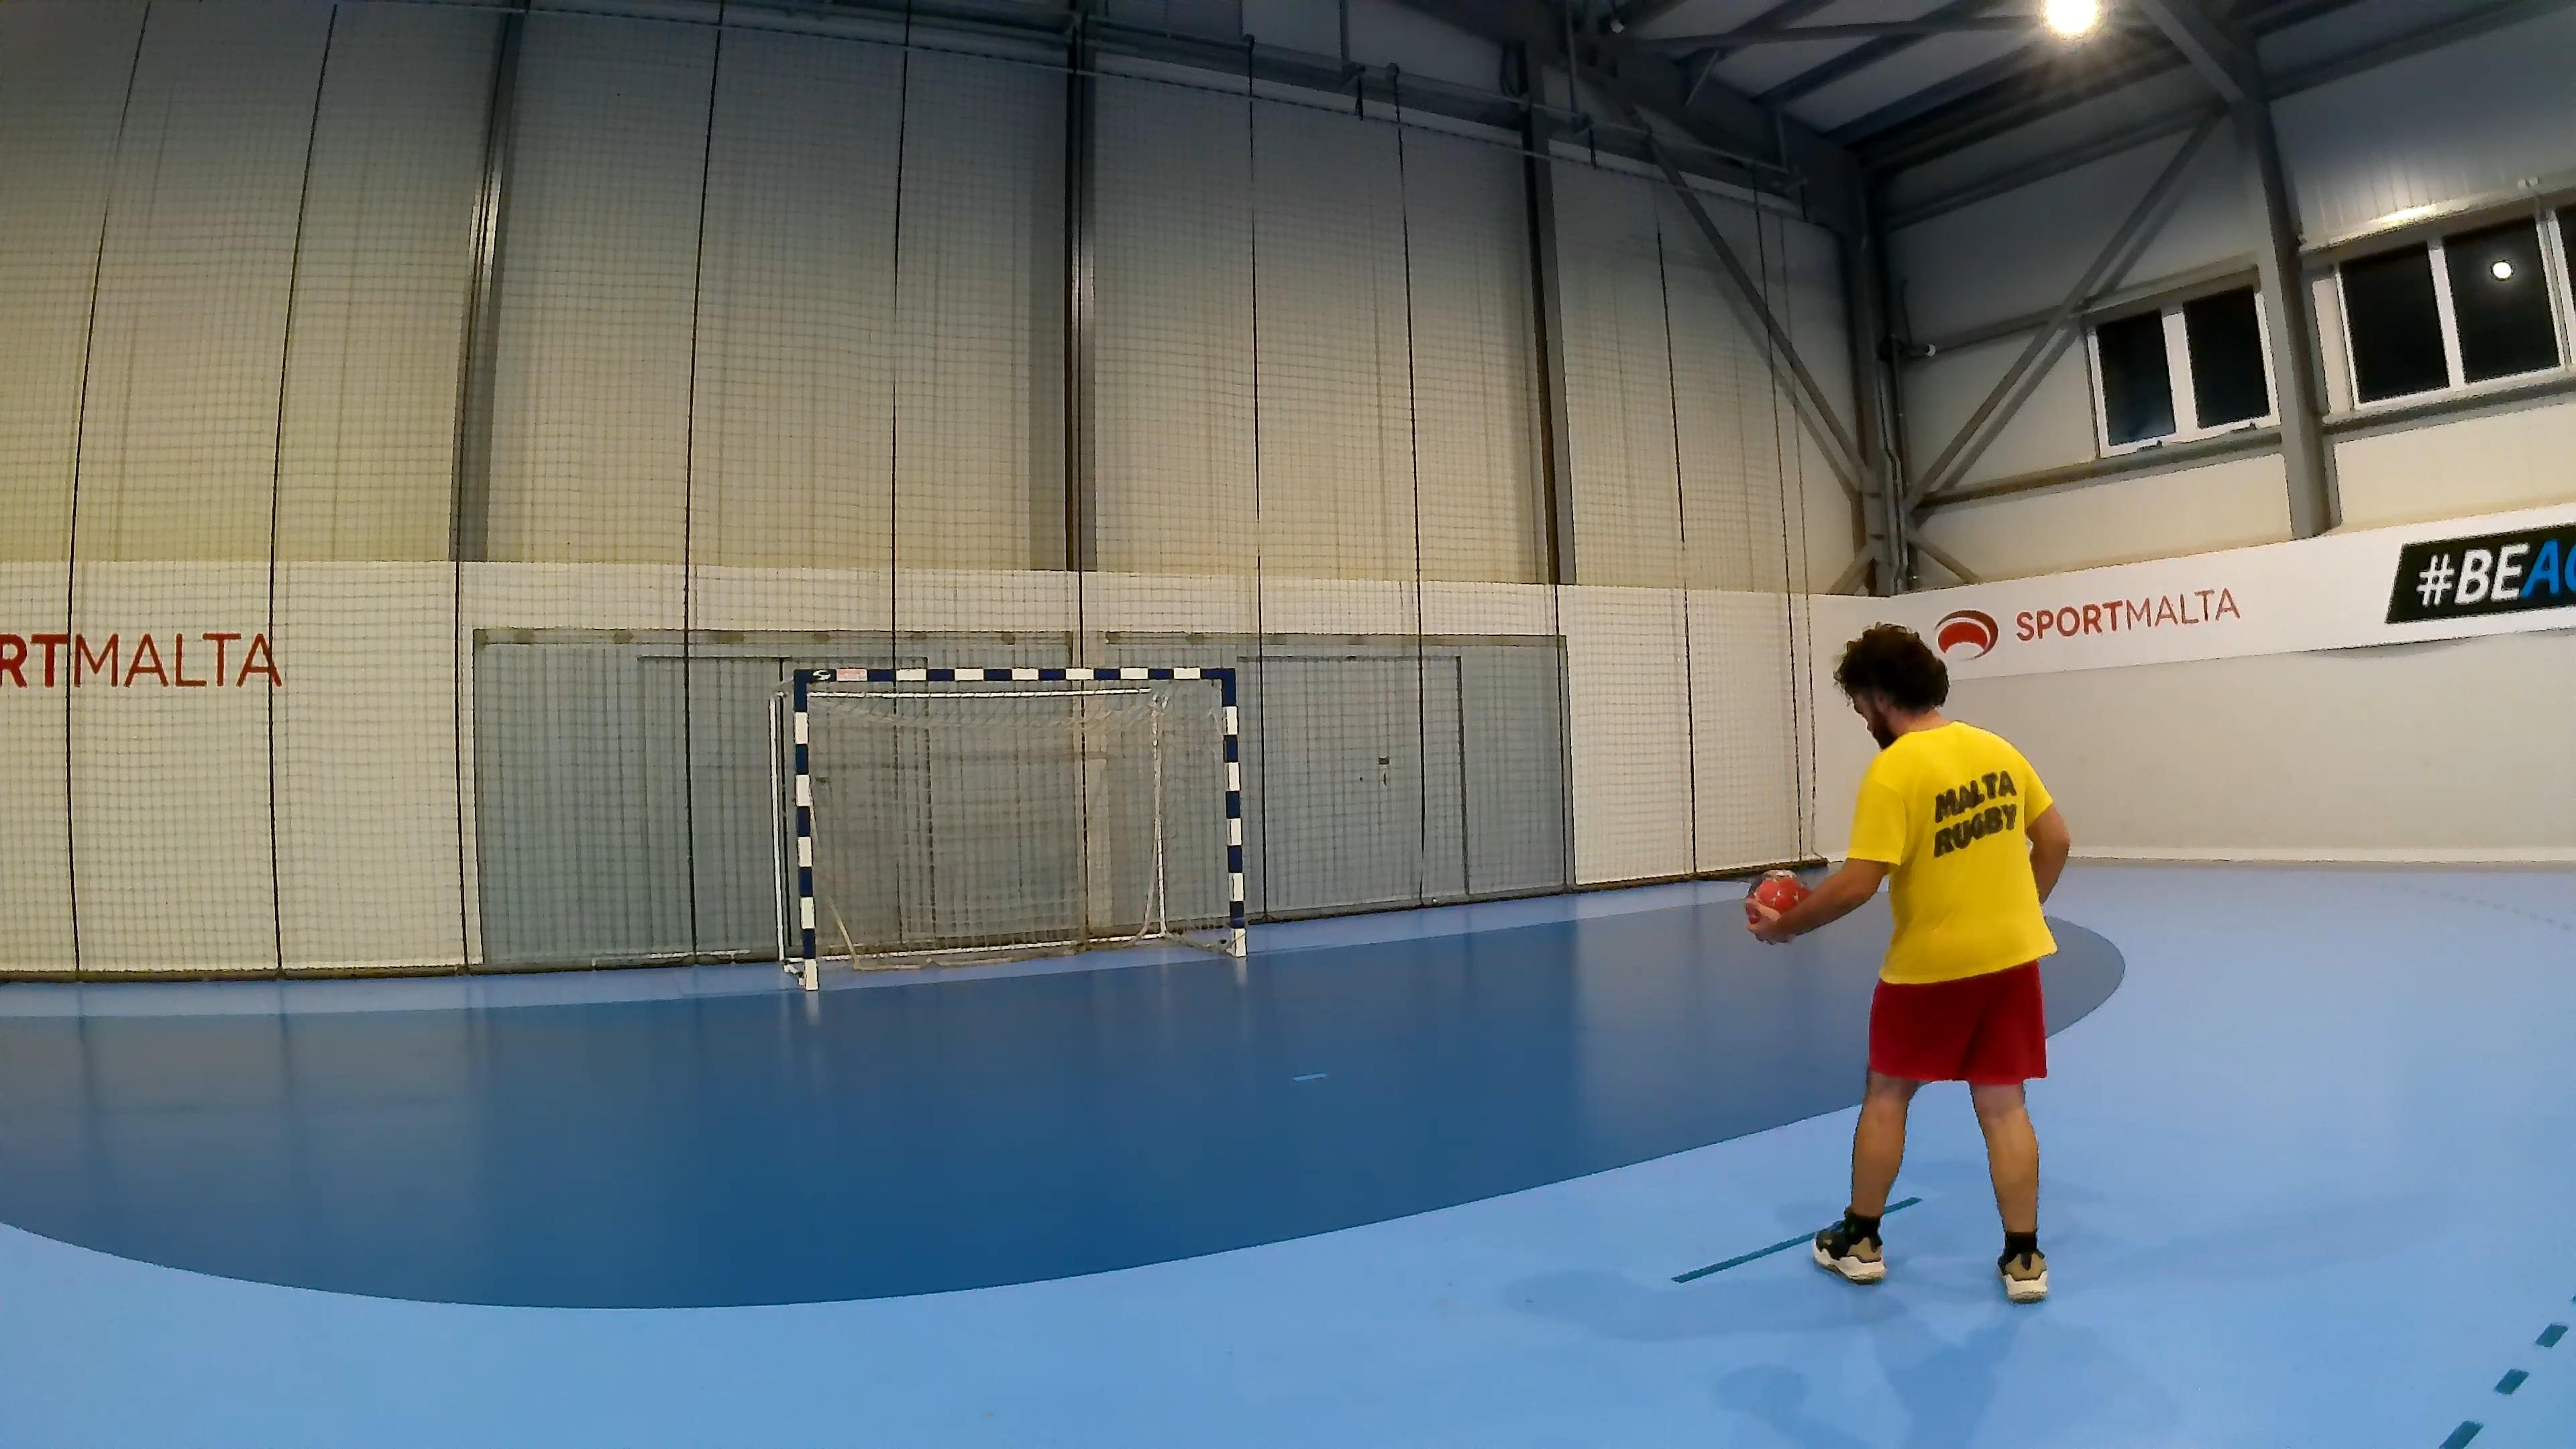handball: (1746, 867, 1813, 943)
